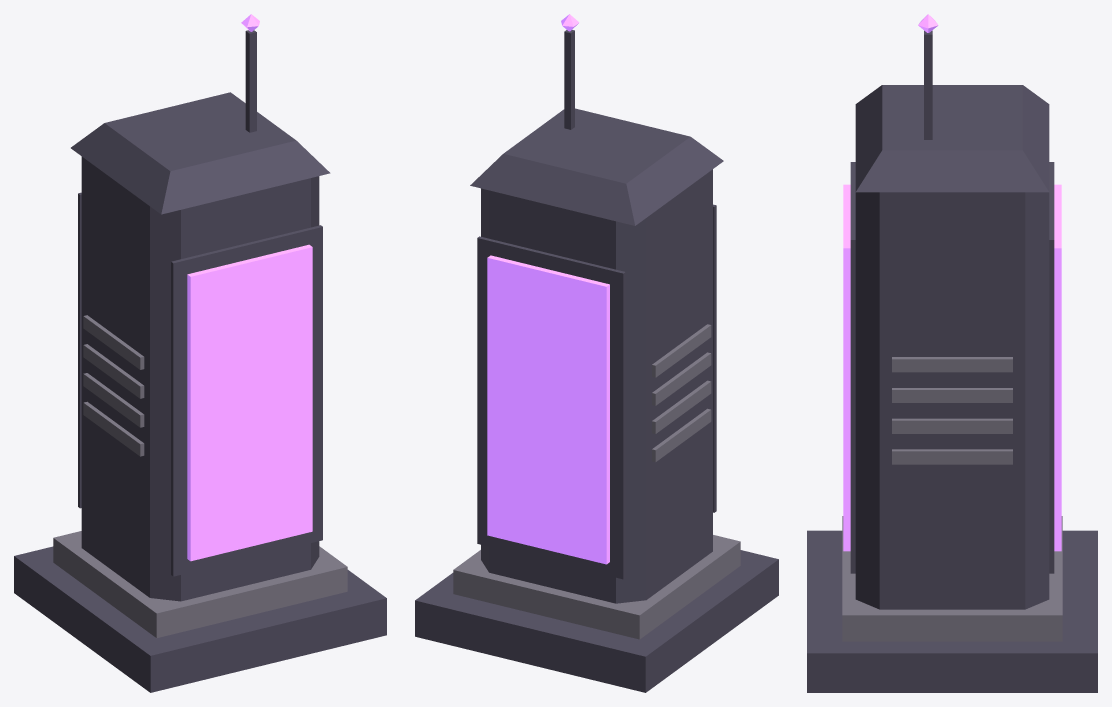
The model's file is SignalKioskIntact.glb.
The picture shows the model from 3 angles, left to right: view 1: azimuth 30°, elevation 25°; view 2: azimuth 150°, elevation 25°; view 3: azimuth 270°, elevation 25°; orthographic projection. The views are drawn at different scales.
Visible parts, largest first — view 1: housing, signal, base, cap, bezel (×2), trim, slat (×4), antenna; view 2: housing, signal, base, cap, bezel (×2), trim, slat (×4), antenna; view 3: housing, base, cap, trim, slat (×4), signal (×2), bezel (×2), antenna.
Boxes of the visible parts, x1,y1,x2,y2 form: housing: (81, 156, 319, 601); signal: (187, 244, 312, 561); base: (14, 546, 386, 692); cap: (71, 92, 330, 214); bezel (×2): (78, 192, 322, 576); trim: (53, 531, 347, 637); slat (×4): (83, 315, 144, 456); antenna: (245, 30, 256, 132); housing: (481, 169, 712, 603); signal: (487, 255, 609, 564); base: (415, 550, 778, 692); cap: (470, 108, 723, 225); bezel (×2): (477, 204, 716, 579); trim: (453, 535, 740, 639); slat (×4): (652, 324, 711, 462); antenna: (564, 30, 574, 129); housing: (855, 192, 1049, 609); base: (807, 530, 1097, 692); cap: (855, 85, 1049, 192); trim: (842, 516, 1062, 641); slat (×4): (892, 357, 1012, 464); signal (×2): (843, 184, 1061, 551); bezel (×2): (850, 162, 1054, 573); antenna: (924, 30, 932, 139).
Size of the model in its own units: 1.2 by 2.9 by 1.2.
